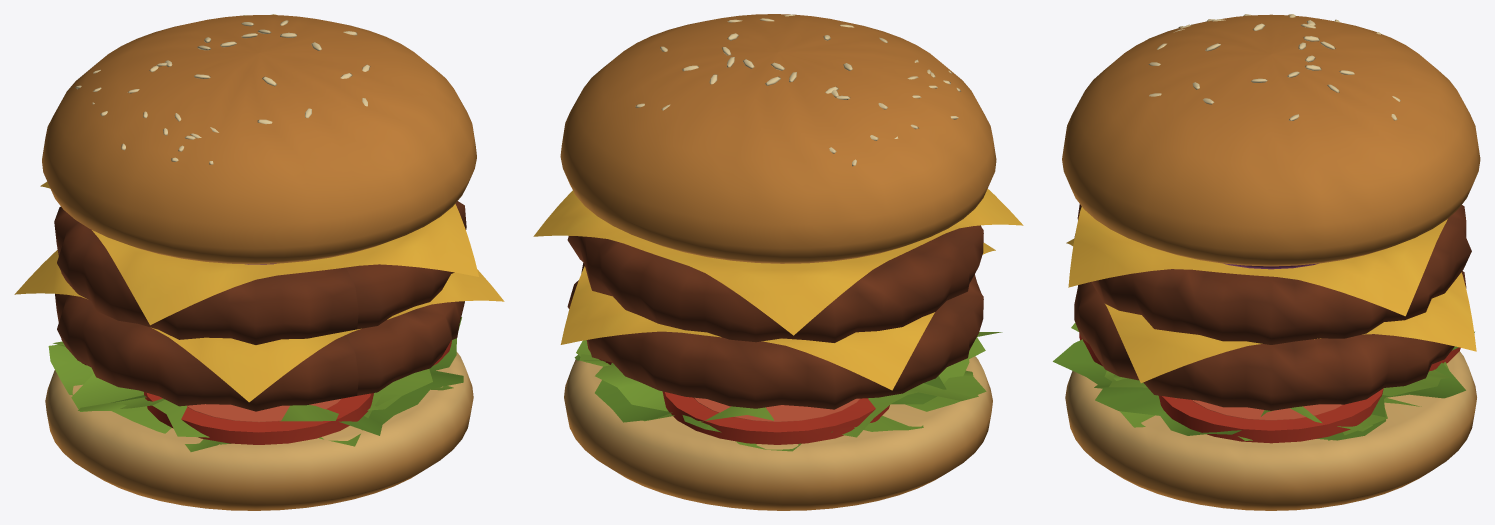
The model's file is xtudo_bbq.glb.
3 renders of one model, left to right at view 1: azimuth 30°, elevation 25°; view 2: azimuth 150°, elevation 25°; view 3: azimuth 270°, elevation 25°, orthographic.
Parts seen in each view (by area): view 1: xtudo_bbq; view 2: xtudo_bbq; view 3: xtudo_bbq.
Part boxes in pixels (box(x1,y1,x2,y2)): xtudo_bbq: box(14, 14, 504, 510); xtudo_bbq: box(533, 14, 1023, 510); xtudo_bbq: box(1053, 14, 1480, 510).
Bounding box in the file's own units: 0.1275 × 0.1224 × 0.1237.
